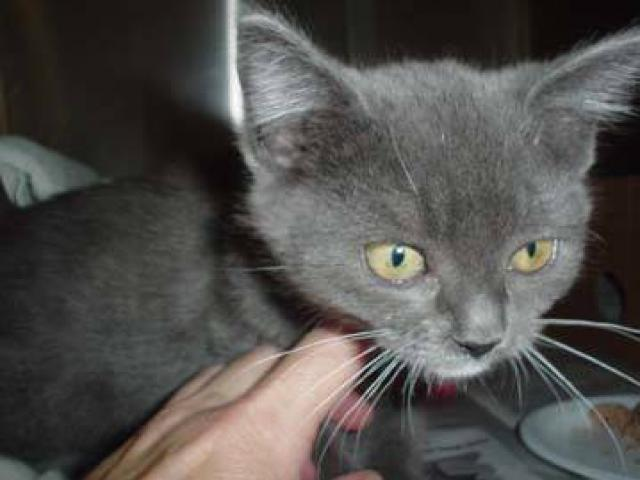cat: (17, 19, 639, 425)
